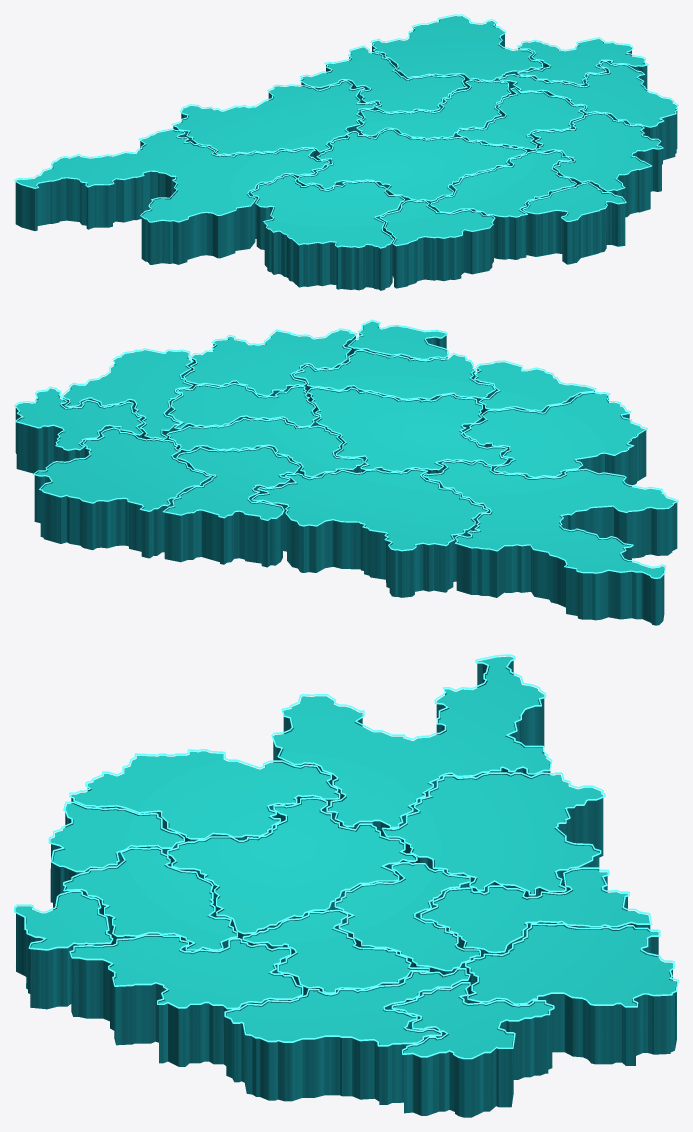
File: A_custom_map_v2_low_raw.glb
3 renders of one model, top to bottom at view 1: azimuth 30°, elevation 25°; view 2: azimuth 150°, elevation 25°; view 3: azimuth 270°, elevation 25°, orthographic. The views are drawn at different scales.
Visible parts, largest first — view 1: PART__REGION_03, PART__REGION_10, PART__REGION_04, PART__REGION_07, PART__REGION_13, PART__REGION_11, PART__REGION_02, PART__REGION_12, PART__REGION_14, PART__REGION_09, PART__REGION_01, PART__REGION_05 (+16 smaller); view 2: PART__REGION_03, PART__REGION_04, PART__REGION_02, PART__REGION_01, PART__REGION_07, PART__REGION_10, PART__REGION_13, PART__REGION_12, PART__REGION_06, PART__REGION_09, PART__REGION_05, PART__REGION_08 (+16 smaller); view 3: PART__REGION_03, PART__REGION_02, PART__REGION_13, PART__REGION_04, PART__REGION_09, PART__REGION_07, PART__REGION_06, PART__REGION_10, PART__REGION_12, PART__REGION_01, PART__REGION_05, PART__REGION_08 (+16 smaller).
Boxes of the visible parts, <box> form: PART__REGION_03: <box>15,130,328,264</box>; PART__REGION_10: <box>252,176,403,290</box>; PART__REGION_04: <box>173,82,375,161</box>; PART__REGION_07: <box>299,130,525,209</box>; PART__REGION_13: <box>533,114,661,217</box>; PART__REGION_11: <box>381,201,493,288</box>; PART__REGION_02: <box>372,16,541,91</box>; PART__REGION_12: <box>431,152,575,259</box>; PART__REGION_14: <box>524,184,625,264</box>; PART__REGION_09: <box>500,62,677,164</box>; PART__REGION_01: <box>301,47,465,114</box>; PART__REGION_05: <box>357,81,509,141</box>; PART__REGION_03: <box>424,462,677,625</box>; PART__REGION_04: <box>253,470,487,597</box>; PART__REGION_02: <box>34,429,209,558</box>; PART__REGION_01: <box>164,448,299,567</box>; PART__REGION_07: <box>308,389,506,475</box>; PART__REGION_10: <box>465,393,646,486</box>; PART__REGION_13: <box>185,330,355,398</box>; PART__REGION_12: <box>294,351,494,405</box>; PART__REGION_06: <box>15,388,141,474</box>; PART__REGION_09: <box>63,350,192,442</box>; PART__REGION_05: <box>168,419,361,480</box>; PART__REGION_08: <box>169,384,317,432</box>; PART__REGION_03: <box>273,656,550,838</box>; PART__REGION_02: <box>467,925,676,1065</box>; PART__REGION_13: <box>71,936,301,1066</box>; PART__REGION_04: <box>384,774,603,899</box>; PART__REGION_09: <box>226,970,468,1104</box>; PART__REGION_07: <box>169,799,415,943</box>; PART__REGION_06: <box>393,984,552,1117</box>; PART__REGION_10: <box>71,751,337,844</box>; PART__REGION_12: <box>65,849,236,954</box>; PART__REGION_01: <box>422,869,650,960</box>; PART__REGION_05: <box>336,864,478,977</box>; PART__REGION_08: <box>244,911,427,998</box>.
Bounding box in the file's own units: 11.84 × 0.8295 × 8.23.
Materials: 2 (1 with a texture image).
